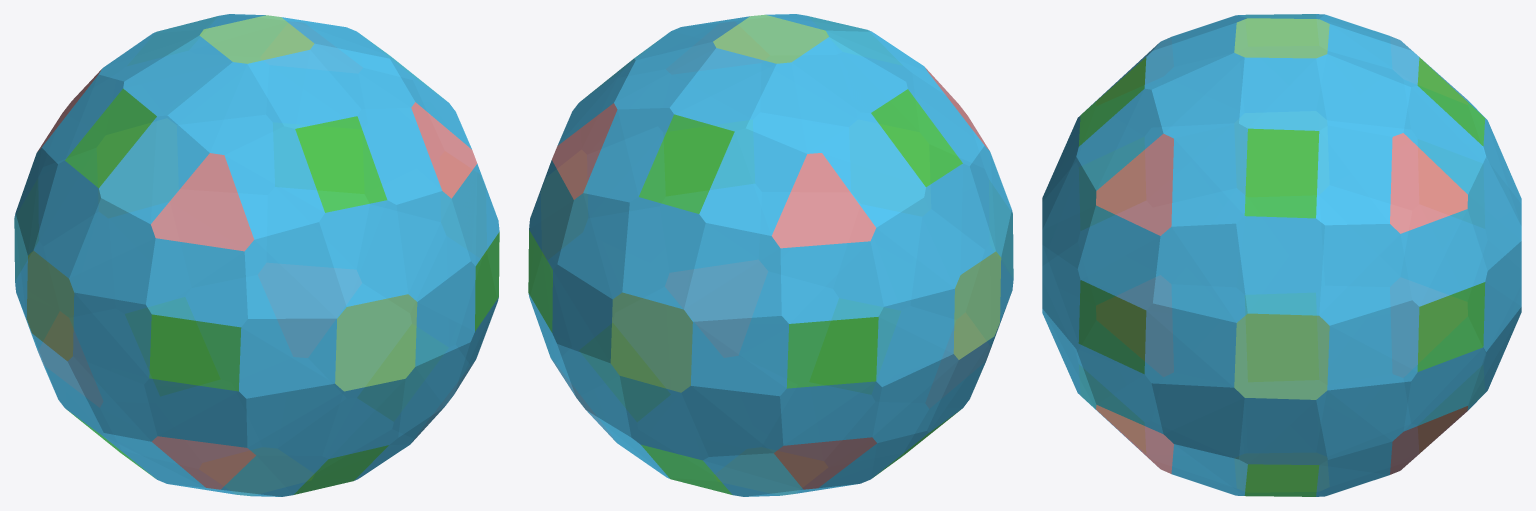
Rendered from BiscribedPropelloTruncatedCuboctahedron.obj.
3 views of the same model, side by side, from view 1: azimuth 30°, elevation 25°; view 2: azimuth 150°, elevation 25°; view 3: azimuth 270°, elevation 25° (orthographic).
Size of the model in its own units: 2 by 2 by 2.
